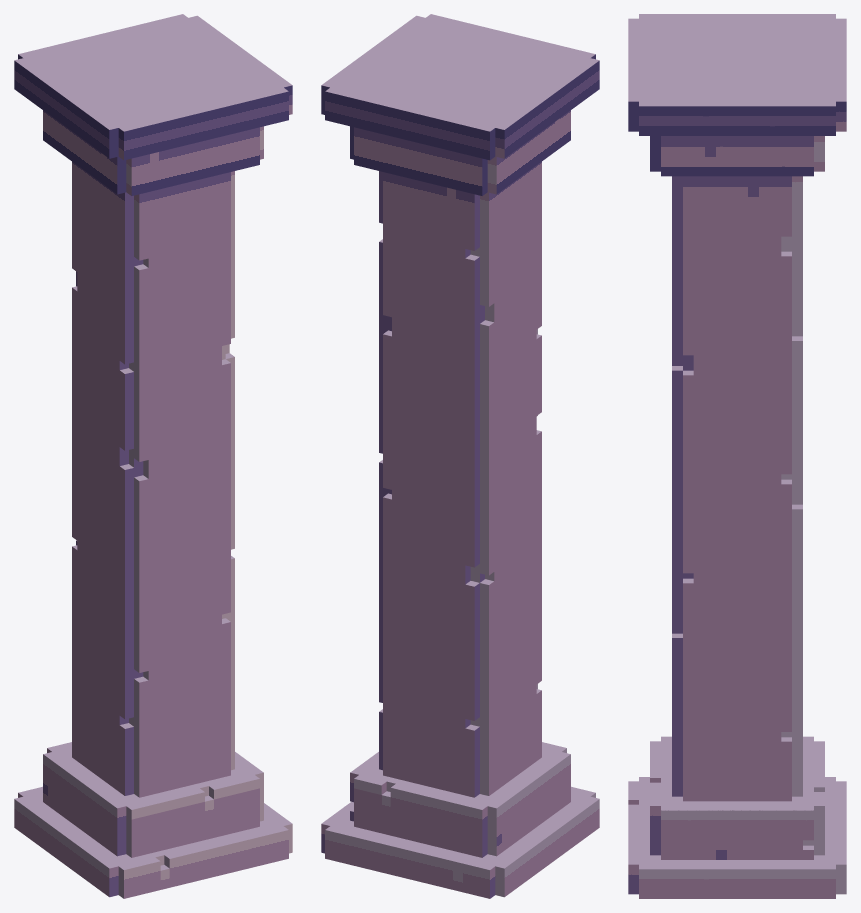
Rendered from library_pillarao.fezao.glb.
3 views of the same model, side by side, from view 1: azimuth 30°, elevation 25°; view 2: azimuth 150°, elevation 25°; view 3: azimuth 270°, elevation 25° (orthographic). The views are drawn at different scales.
Parts seen in each view (by area): view 1: LIBRARY_PILLARAO; view 2: LIBRARY_PILLARAO; view 3: LIBRARY_PILLARAO.
Boxes of the visible parts, box(x1,y1,x2,y2) form: LIBRARY_PILLARAO: box(14, 14, 292, 898); LIBRARY_PILLARAO: box(321, 14, 599, 898); LIBRARY_PILLARAO: box(628, 14, 846, 898).
Size of the model in its own units: 1.25 by 5 by 1.25.
1 material, 1 textured.
